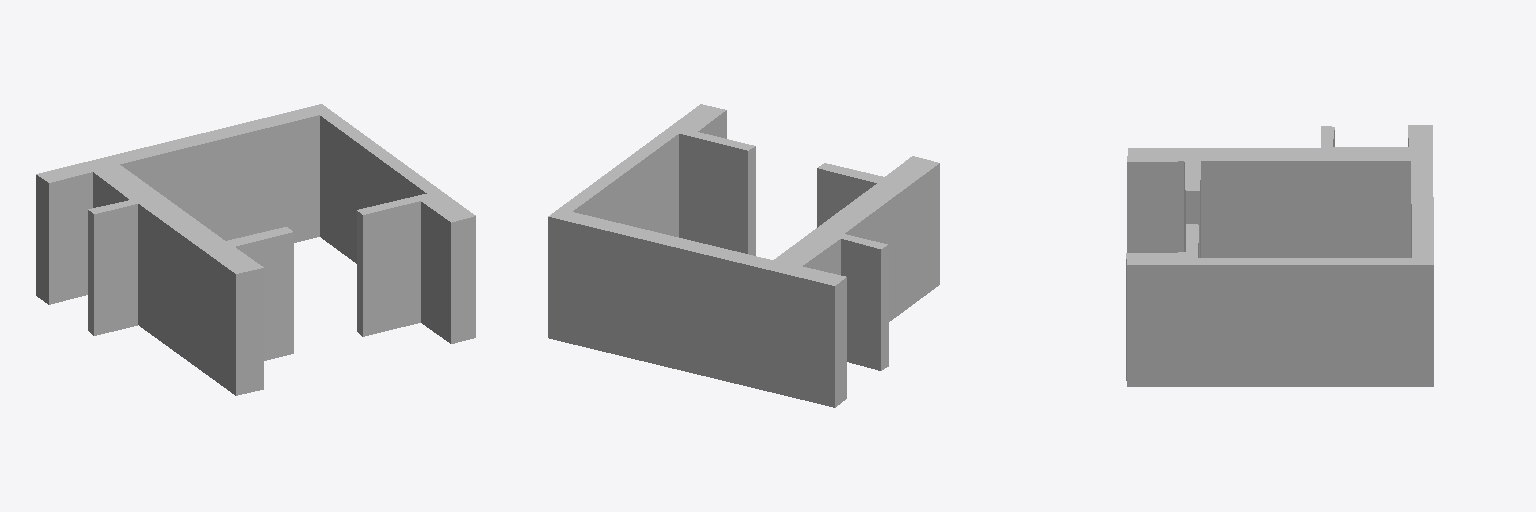
File: bright_104.obj
3 views of the same model, side by side, from view 1: azimuth 30°, elevation 25°; view 2: azimuth 150°, elevation 25°; view 3: azimuth 270°, elevation 25° (orthographic).
Parts seen in each view (by area): view 1: polySurface13; view 2: polySurface13; view 3: polySurface13.
Part boxes in pixels (x1,y1,x2,y2): polySurface13: (36, 104, 475, 395); polySurface13: (548, 104, 939, 407); polySurface13: (1126, 125, 1433, 386).
Bounding box in the file's own units: 52.48 × 21.24 × 48.69.